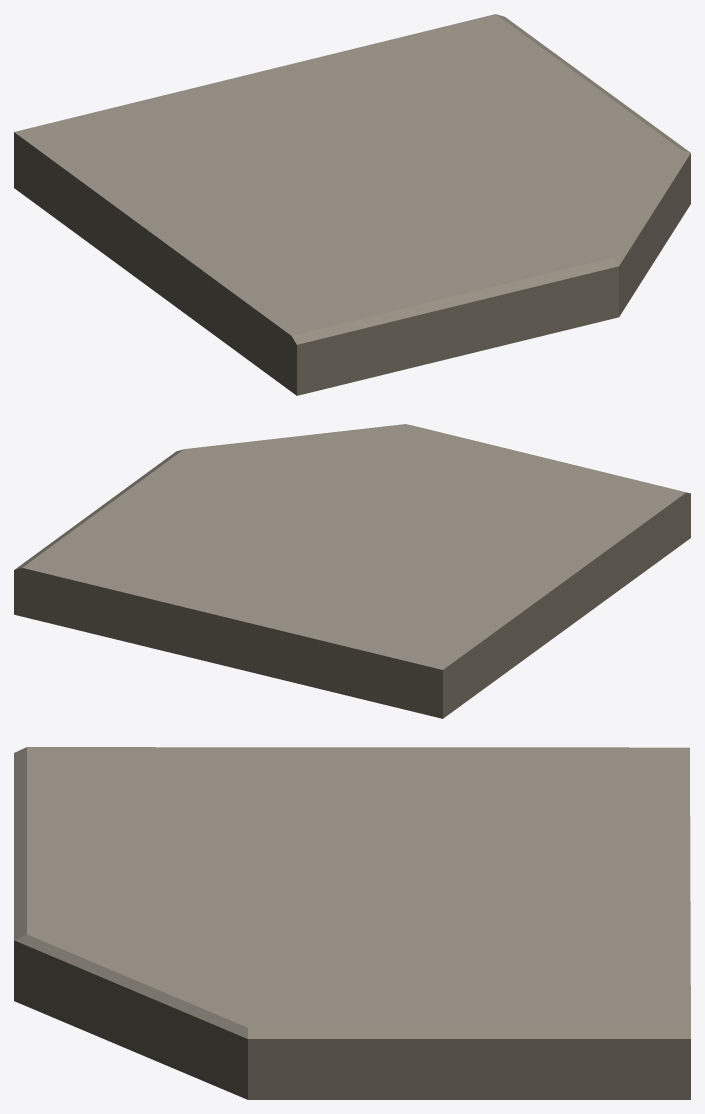
The model's file is Bottom_A3.fbx.
The picture shows the model from 3 angles, top to bottom: view 1: azimuth 30°, elevation 25°; view 2: azimuth 150°, elevation 25°; view 3: azimuth 270°, elevation 25°; orthographic projection. The views are drawn at different scales.
Visible parts, largest first — view 1: Bottom_A3; view 2: Bottom_A3; view 3: Bottom_A3.
Boxes of the visible parts, x1,y1,x2,y2 form: Bottom_A3: (14,14,690,395); Bottom_A3: (14,424,690,718); Bottom_A3: (14,747,690,1099).
Bounding box in the file's own units: 613 × 66.63 × 613.
